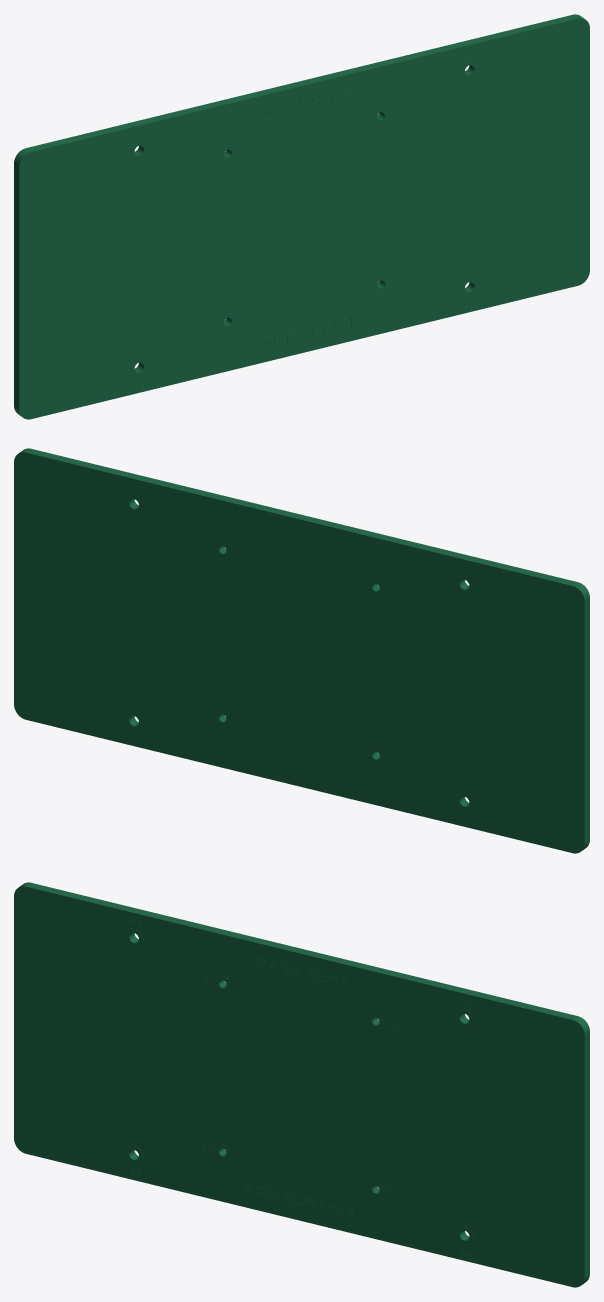
The model's file is pcb.obj.
3 views of the same model, one above another, from view 1: azimuth 30°, elevation 25°; view 2: azimuth 150°, elevation 25°; view 3: azimuth 330°, elevation 25° (orthographic).
Size of the model in its own units: 190 by 85 by 3.12.
